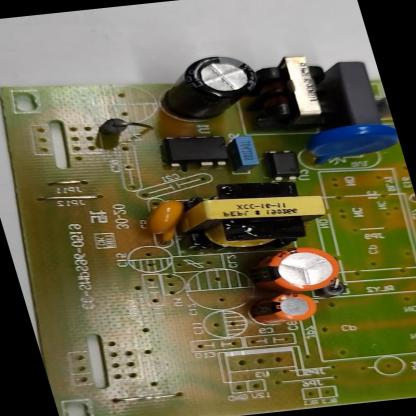Cap1: (251, 244, 344, 294)
Cap2: (249, 292, 320, 326)
Cap3: (150, 52, 268, 123)
MOSFET: (160, 133, 231, 170)
Mov: (305, 122, 402, 160)
Resistor: (376, 96, 392, 118)
Transformer: (182, 178, 335, 252), (254, 52, 338, 122)
